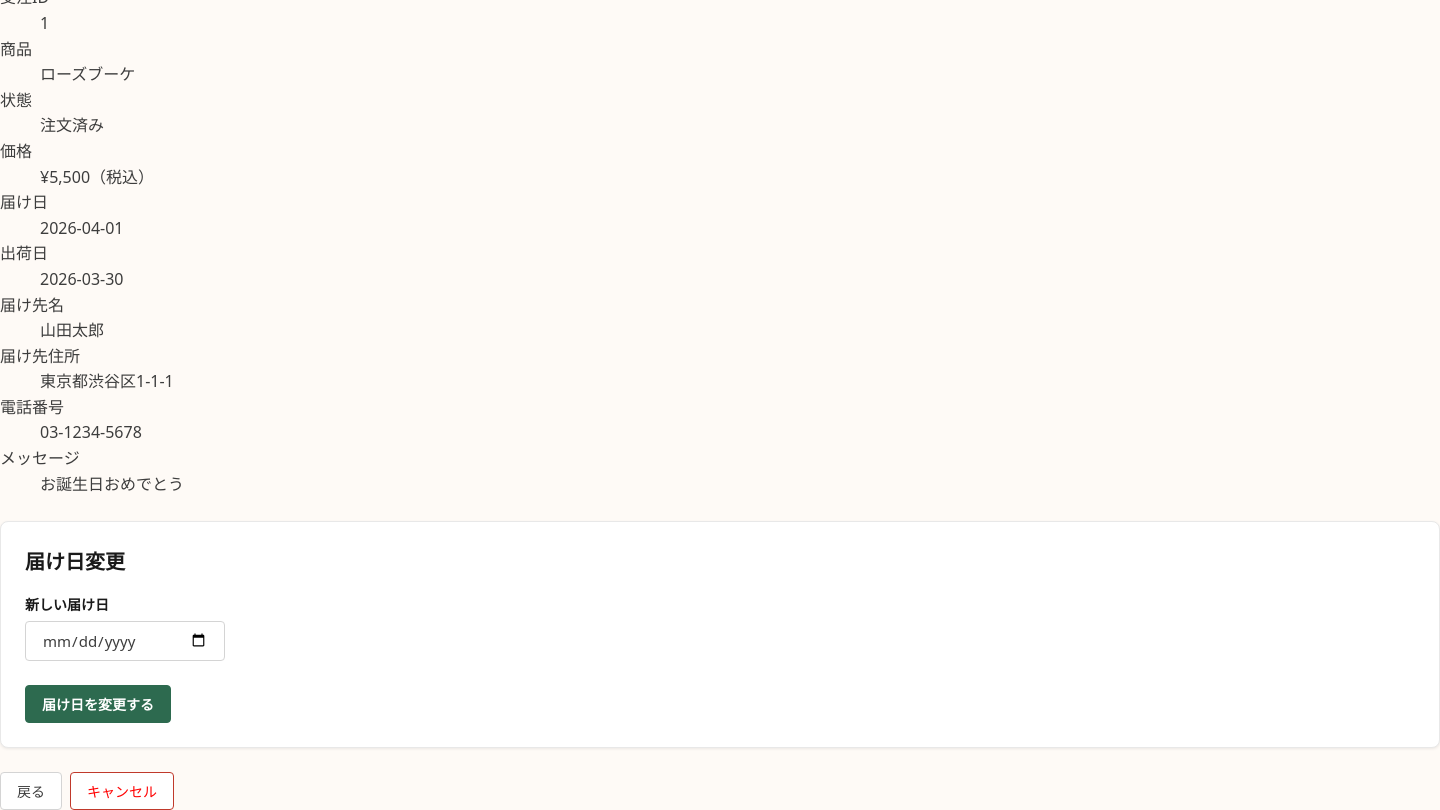
Test: OrderDetail › 注文キャンセル › キャンセル後はキャンセルボタンと届け日変更セクションが非表示になる
(page scrolled)
Click the button "キャンセル". click: (122, 791)
box: [70,772,174,809]
(page scrolled)
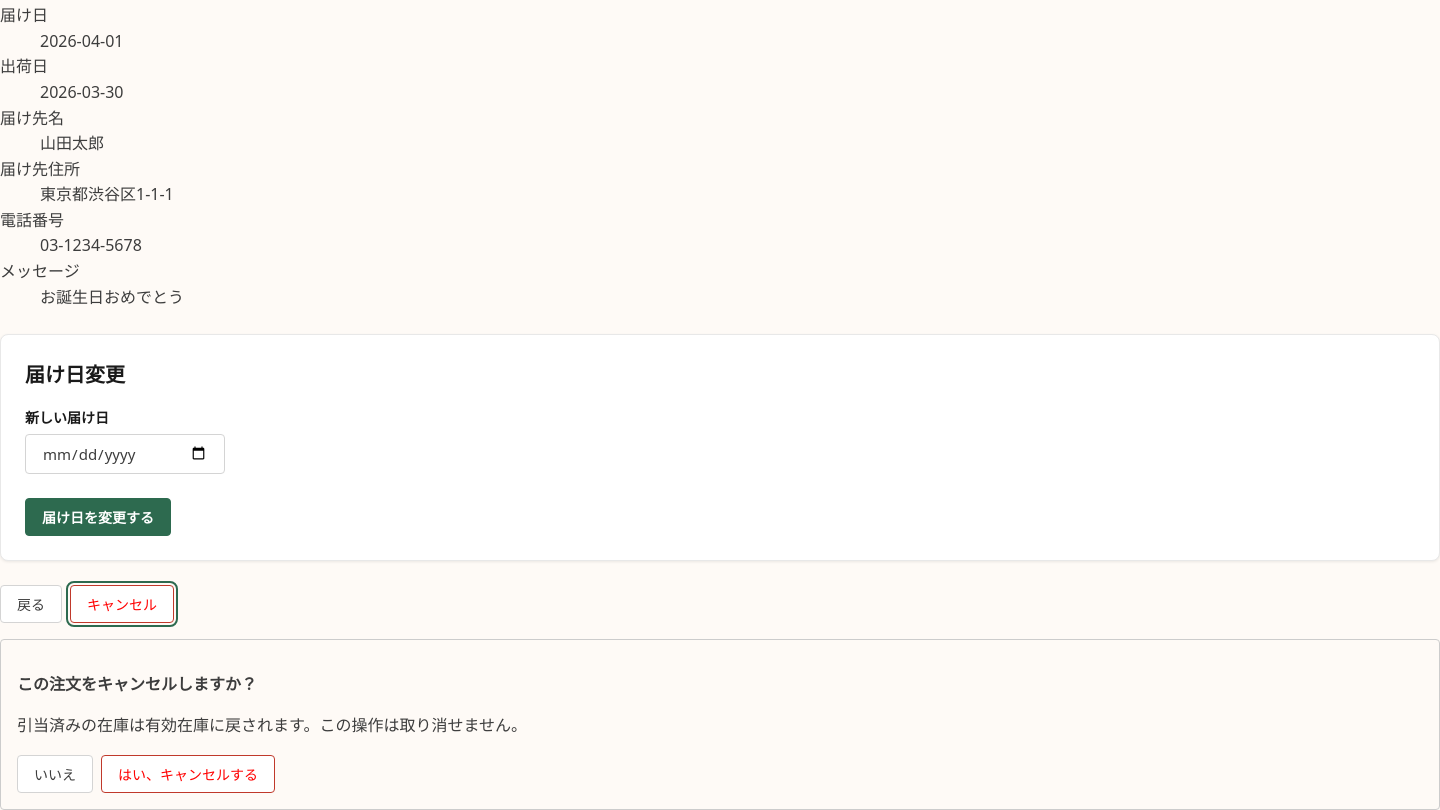
Click the button "はい、キャンセルする". click: (188, 774)
box: [101,755,275,793]
(page scrolled)
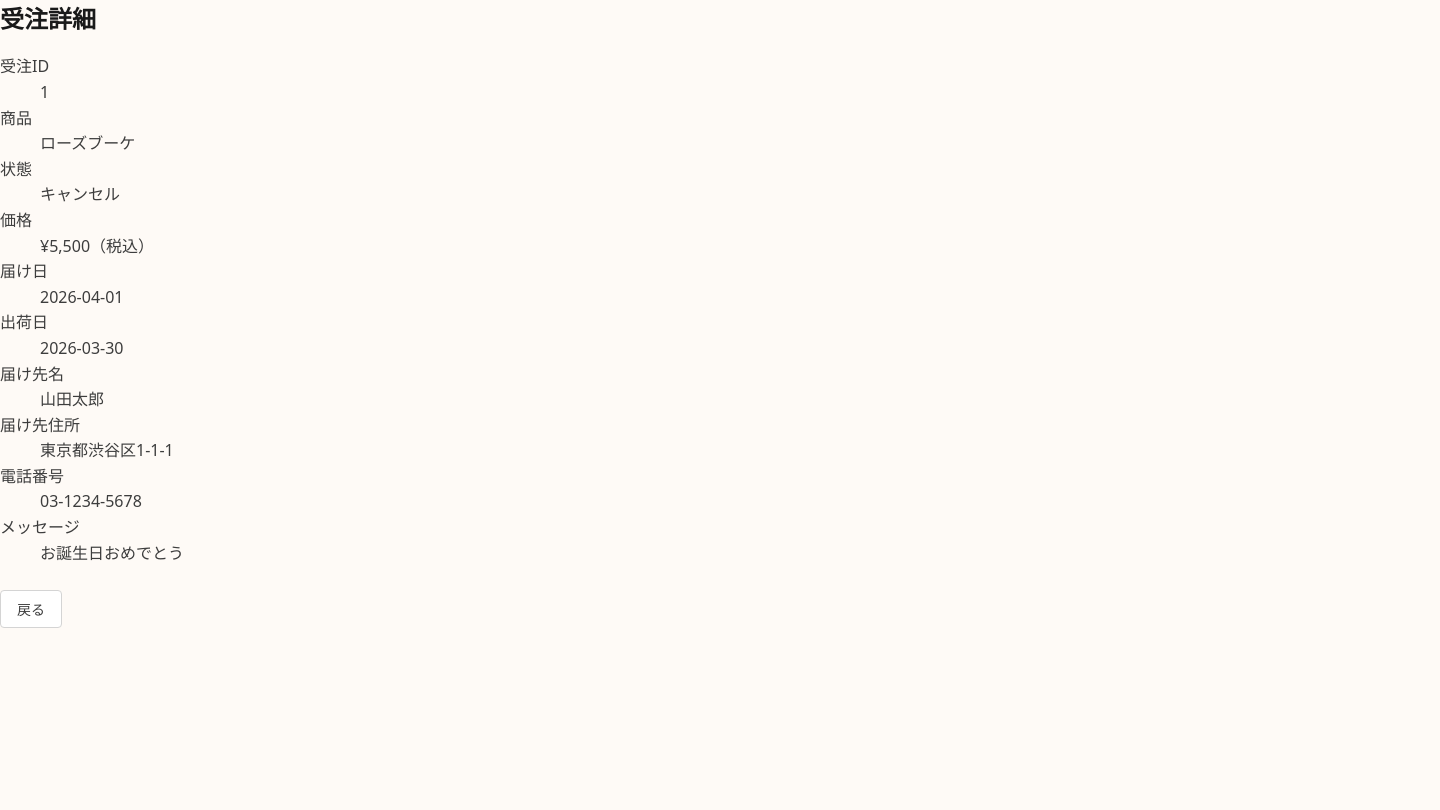
expect the text "キャンセル" is shown: met, box [40,183,120,205]
expect the heading "届け日変更" is gone: met
